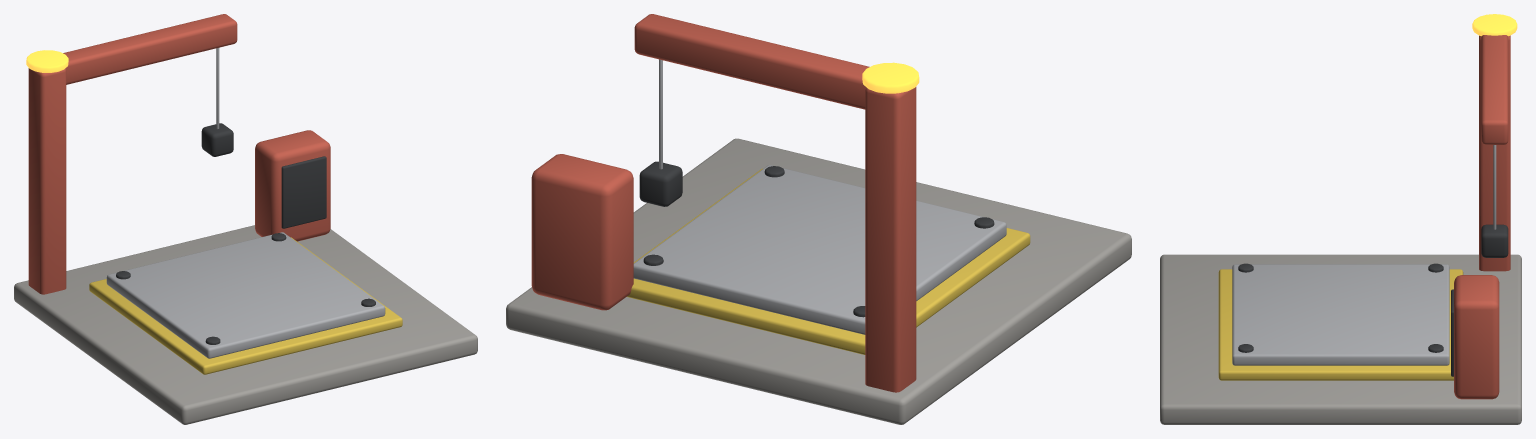
Rendered from building_repair.glb.
3 views of the same model, side by side, from view 1: azimuth 30°, elevation 25°; view 2: azimuth 150°, elevation 25°; view 3: azimuth 270°, elevation 25° (orthographic). The views are drawn at different scales.
Visible parts, largest first — view 1: Cube, Cube.002, Cube.003, Cube.004, Cube.001, Cube.006, Cube.007, Cube.005, Cylinder.005; view 2: Cube, Cube.002, Cube.003, Cube.006, Cube.004, Cube.001, Cube.005, Cylinder.005; view 3: Cube, Cube.002, Cube.006, Cube.001, Cube.003, Cube.004, Cube.005, Cylinder.005.
Boxes of the visible parts, bbox=[...] form: Cube: bbox=[14, 225, 477, 424]; Cube.002: bbox=[106, 232, 385, 358]; Cube.003: bbox=[28, 68, 66, 294]; Cube.004: bbox=[63, 14, 237, 84]; Cube.001: bbox=[89, 237, 402, 374]; Cube.006: bbox=[255, 130, 330, 241]; Cube.007: bbox=[281, 156, 326, 228]; Cube.005: bbox=[201, 123, 233, 156]; Cylinder.005: bbox=[26, 50, 68, 72]; Cube: bbox=[506, 138, 1131, 424]; Cube.002: bbox=[633, 165, 1006, 334]; Cube.003: bbox=[865, 87, 916, 392]; Cube.006: bbox=[531, 154, 633, 310]; Cube.004: bbox=[634, 14, 869, 109]; Cube.001: bbox=[627, 168, 1030, 354]; Cube.005: bbox=[639, 161, 682, 206]; Cylinder.005: bbox=[862, 62, 919, 93]; Cube: bbox=[1160, 254, 1521, 424]; Cube.002: bbox=[1232, 264, 1449, 365]; Cube.006: bbox=[1454, 275, 1499, 399]; Cube.001: bbox=[1218, 269, 1463, 380]; Cube.003: bbox=[1479, 35, 1510, 271]; Cube.004: bbox=[1481, 35, 1508, 144]; Cube.005: bbox=[1481, 224, 1508, 257]; Cylinder.005: bbox=[1472, 14, 1517, 36].
Bounding box in the file's own units: 4 × 3.2 × 4.
